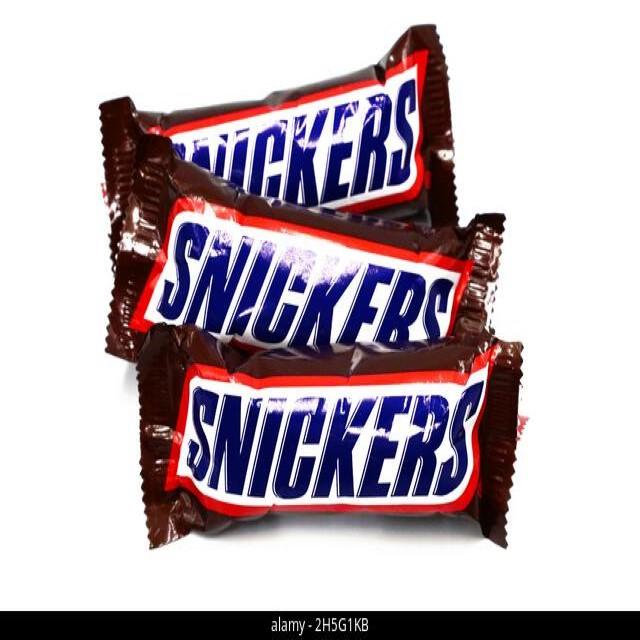snickers_chocolate: (137, 355, 528, 553), (107, 200, 495, 355), (123, 98, 467, 207)
